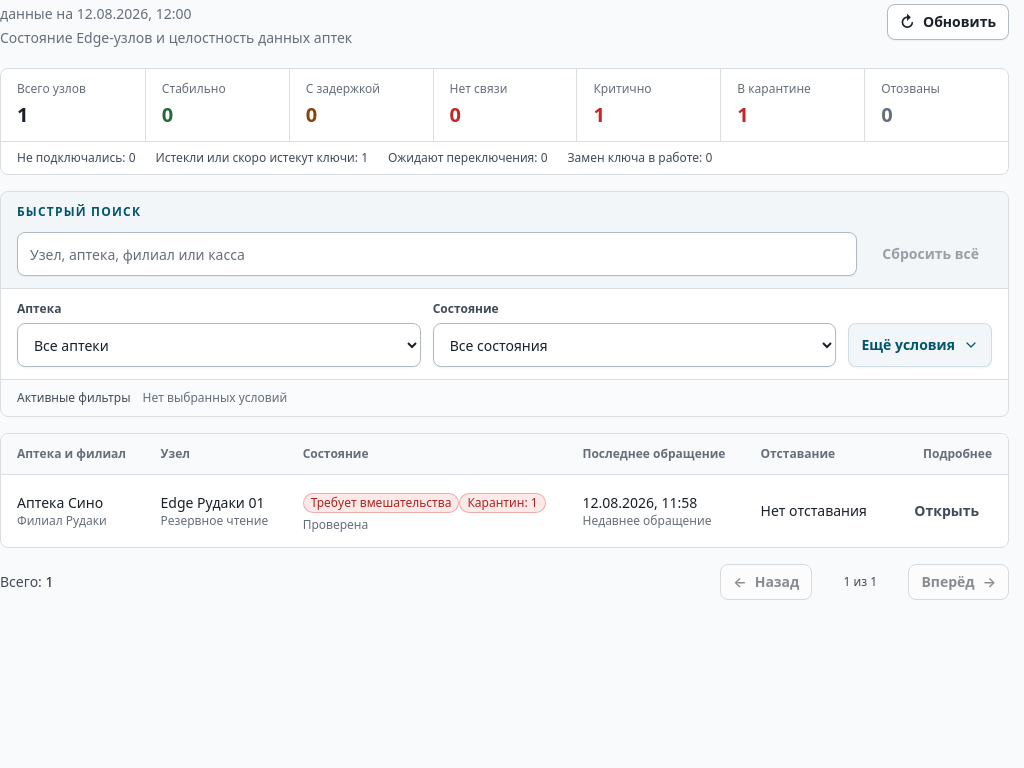
SyncCenterPage › explains the safe recovery path to an authorized administrator
Step 1. Click the button with aria-label "Подробнее об узле Edge Рудаки 01" → (947, 511), box [901,493,992,529]
(page scrolled)
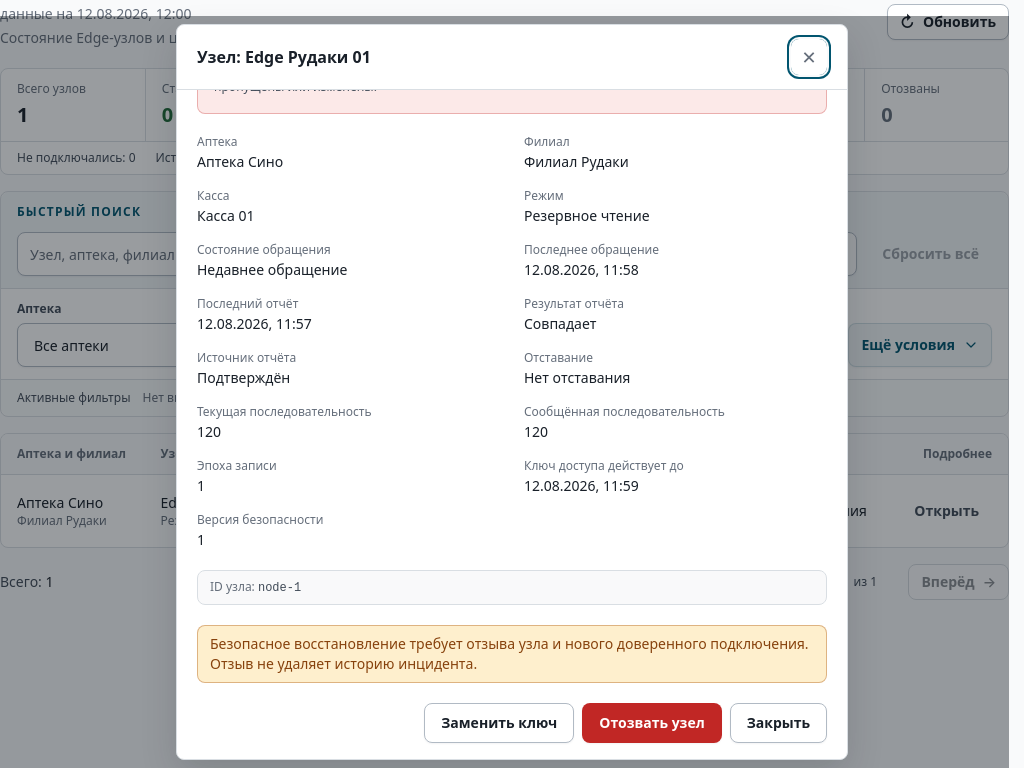
Expected: the button "Отозвать узел" is shown, [582,703,722,743]
Expected: the text "Безопасное восстановление требует отзыва узла" is shown, [210,634,809,673]
